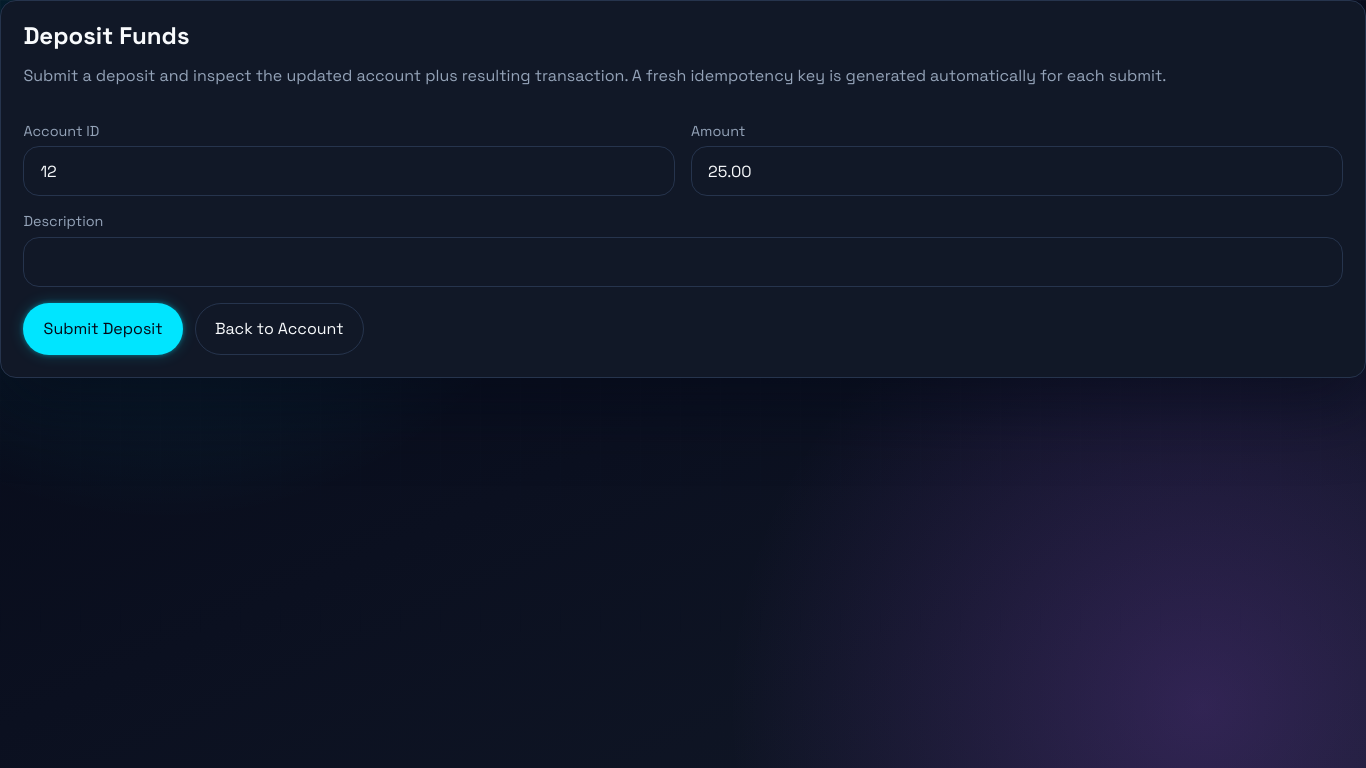
Scenario: money movement pages › shows only the success banner after a deposit completes
Step 1. Replace the text in the field labelled "Amount" with "55.00" → (1017,171), box [691,146,1343,196]
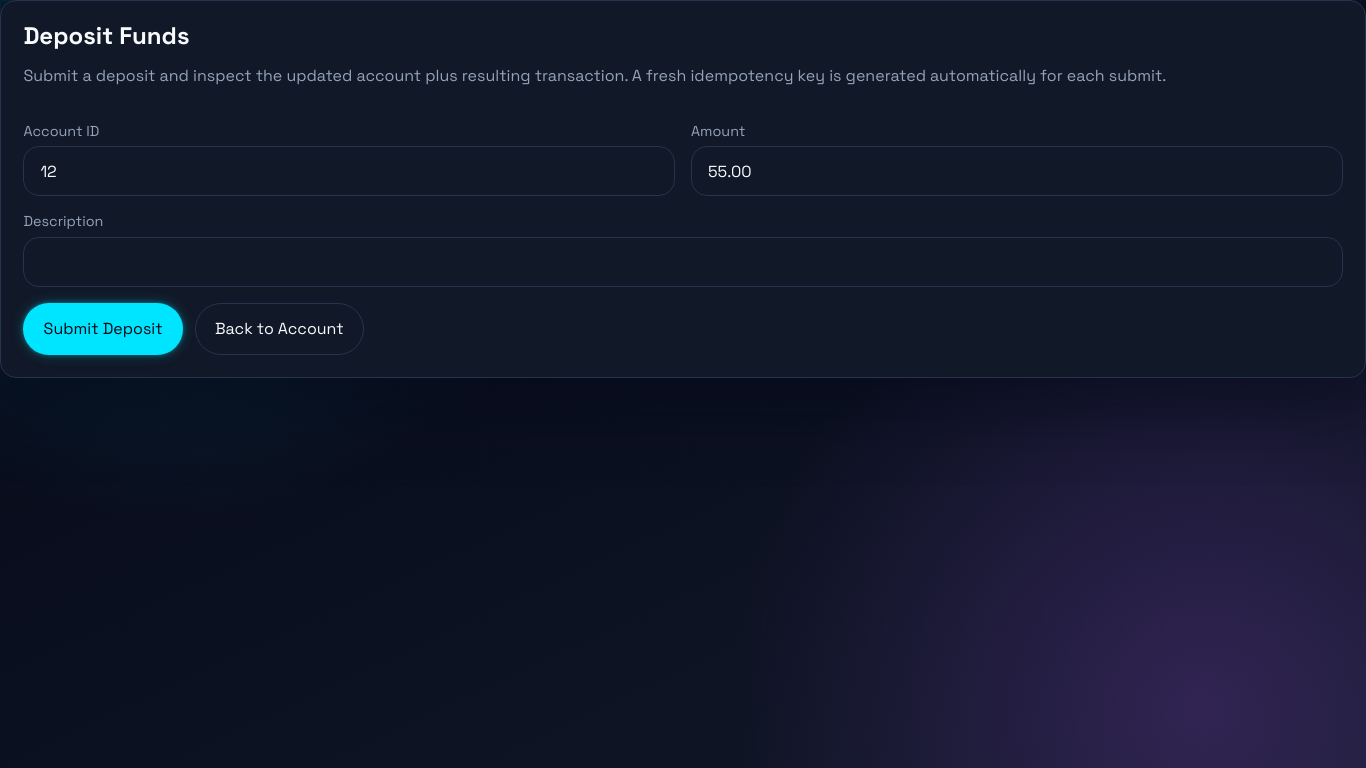
Step 2. Type "Pay in" into the field labelled "Description" → (683,262), box [23,236,1343,287]
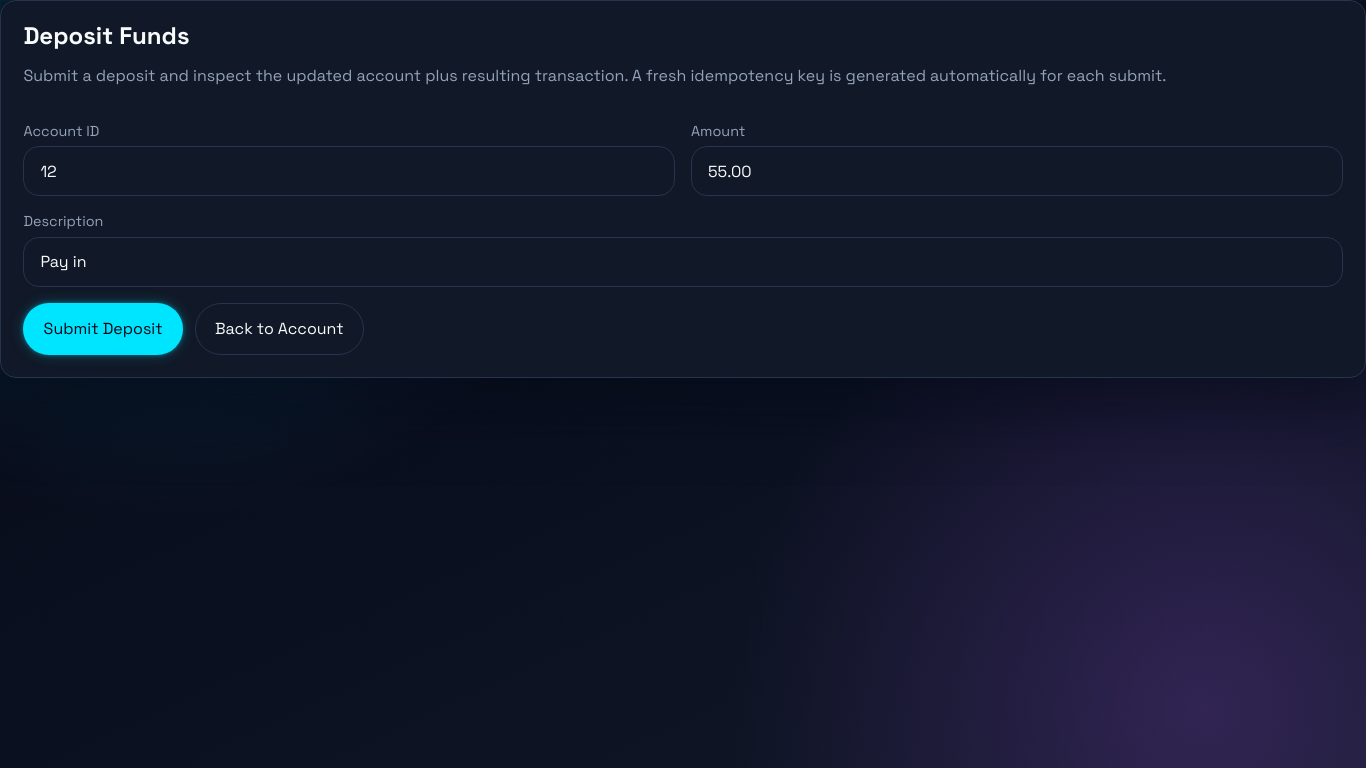
Step 3. Click the button "Submit Deposit" → (103,329), box [23,303,183,354]
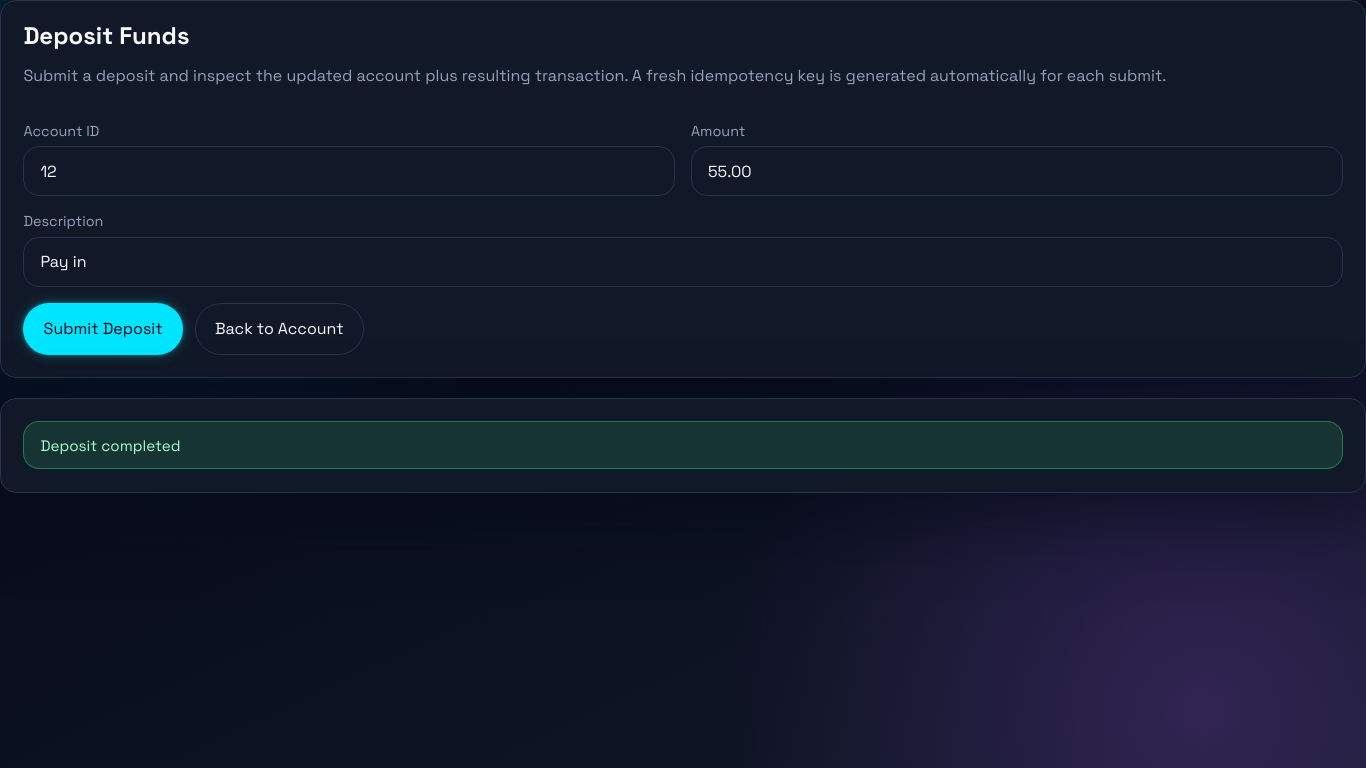
expect the text "Deposit completed" is shown: met, box [23,421,1343,470]
